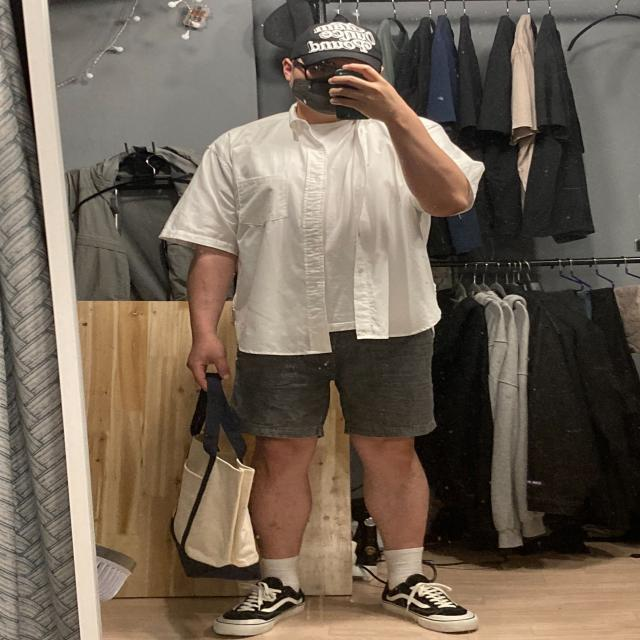shirt: (162, 100, 483, 354)
shortpants: (229, 324, 439, 439)
